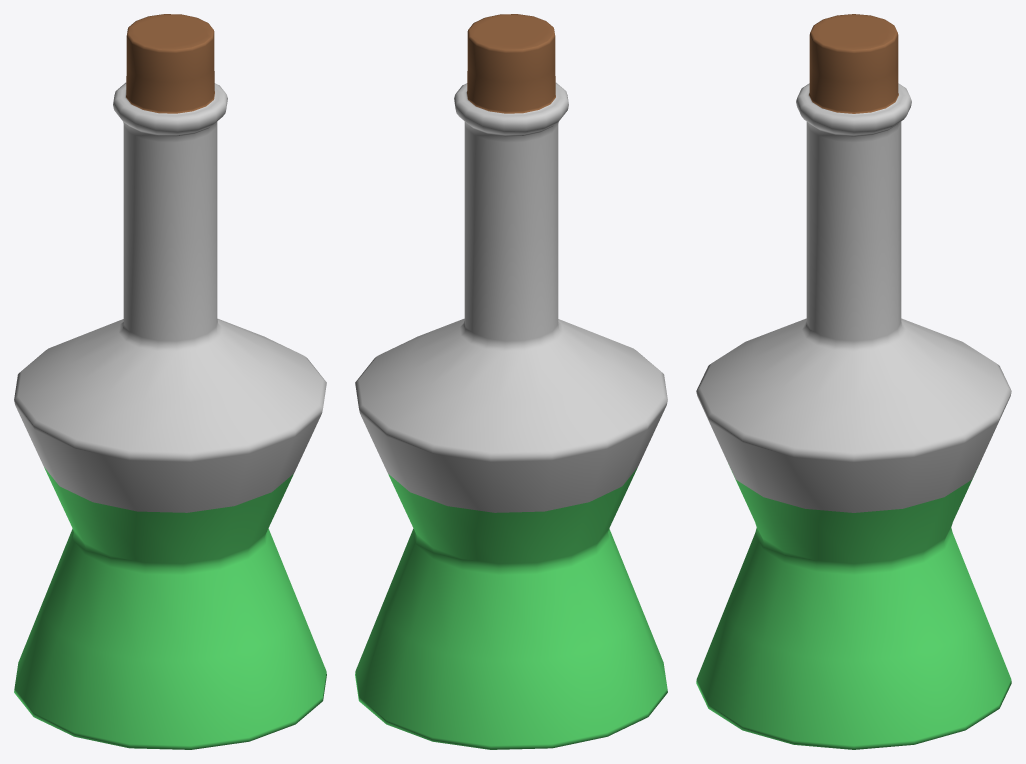
File: Pocion_5.fbx
The picture shows the model from 3 angles, left to right: view 1: azimuth 30°, elevation 25°; view 2: azimuth 150°, elevation 25°; view 3: azimuth 270°, elevation 25°; orthographic projection.
Parts seen in each view (by area): view 1: Cube.003; view 2: Cube.003; view 3: Cube.003.
Part boxes in pixels (x1,y1,x2,y2): Cube.003: (14,14,326,749); Cube.003: (355,14,667,749); Cube.003: (696,14,1011,749).
Size of the model in its own units: 94.23 by 215 by 94.23.
